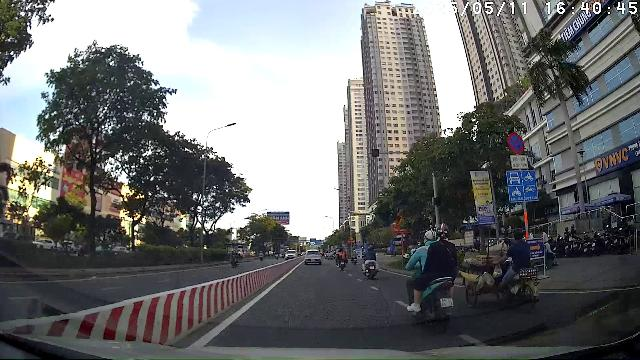130-cam-dung-va-do-xe: (508, 132, 524, 154)
